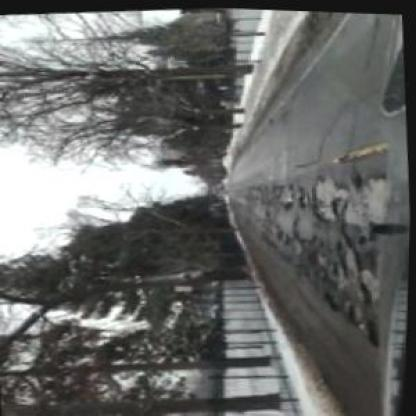pothole: (364, 316, 386, 343), (333, 236, 348, 269), (322, 287, 345, 308), (295, 183, 311, 205), (372, 216, 392, 233), (330, 196, 345, 212)
